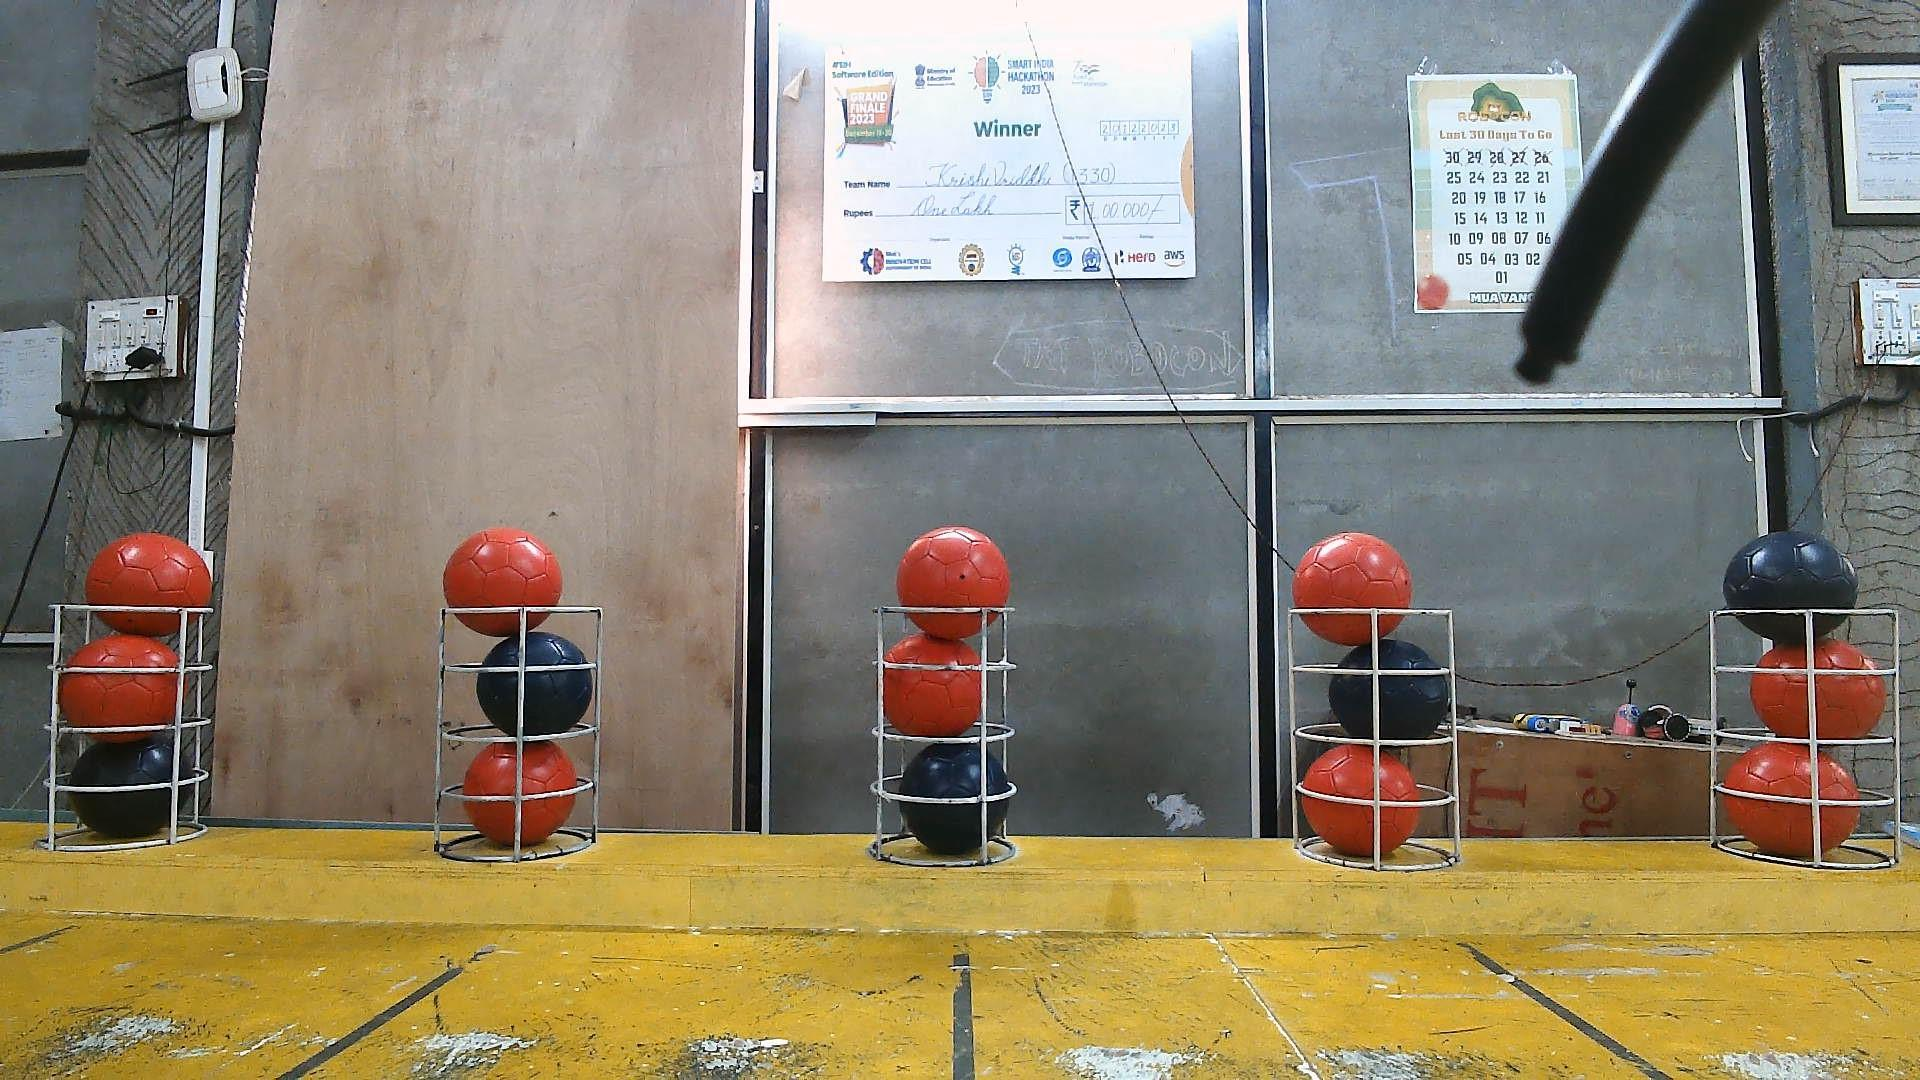dhoka: (1721, 533, 1857, 645), (75, 728, 203, 840), (1328, 637, 1452, 742), (897, 742, 1013, 855), (476, 634, 592, 740)
laale: (1721, 742, 1859, 862), (1747, 637, 1886, 742), (57, 637, 189, 745), (1298, 742, 1418, 858), (1290, 533, 1410, 647), (86, 533, 214, 637), (897, 525, 1009, 641), (468, 738, 585, 848), (439, 529, 563, 630), (881, 634, 982, 737)
